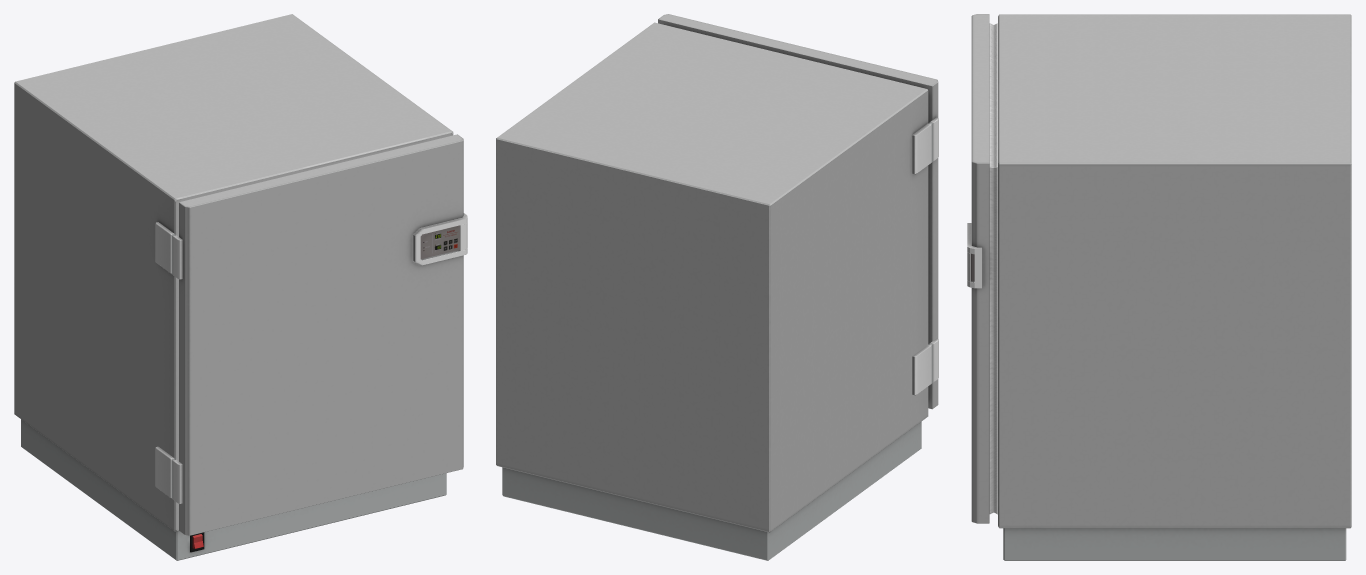
File: icebox.fbx
The picture shows the model from 3 angles, left to right: view 1: azimuth 30°, elevation 25°; view 2: azimuth 150°, elevation 25°; view 3: azimuth 270°, elevation 25°; orthographic projection. The views are drawn at different scales.
Visible parts, largest first — view 1: icebox, icebox_door; view 2: icebox, icebox_door; view 3: icebox, icebox_door.
Boxes of the visible parts, x1=… form: icebox: x1=14, y1=14, x2=453, y2=560; icebox_door: x1=171, y1=134, x2=467, y2=535; icebox: x1=496, y1=22, x2=931, y2=560; icebox_door: x1=658, y1=14, x2=938, y2=409; icebox: x1=998, y1=14, x2=1351, y2=560; icebox_door: x1=967, y1=14, x2=997, y2=523.
Size of the model in its own units: 0.818 by 1 by 0.8699.
